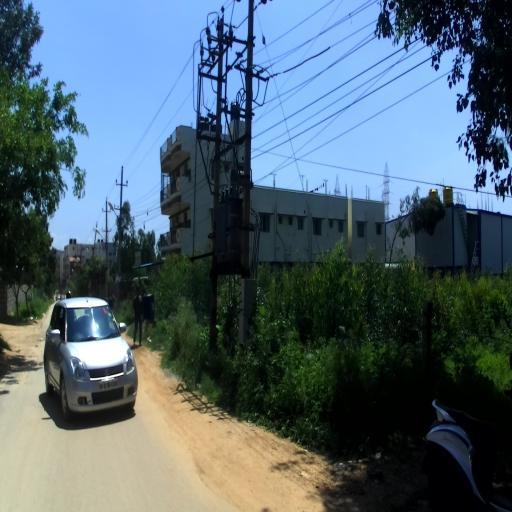street_light_0: (108, 201, 123, 229), (95, 227, 108, 250)
